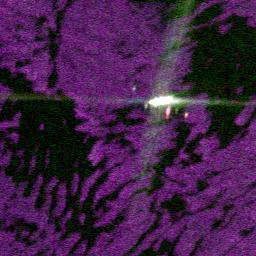Ship: (148, 95, 183, 108)
